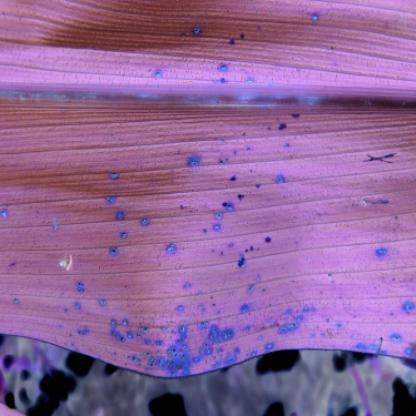corn rust leaf: (5, 29, 415, 415)
